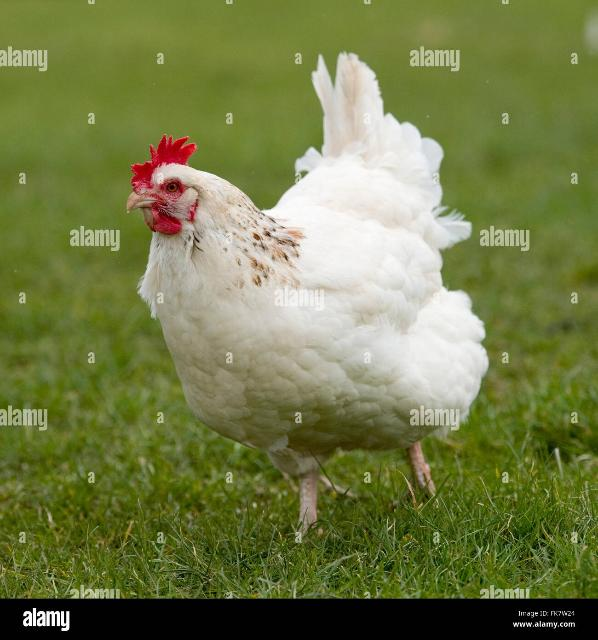Chicken: (123, 51, 489, 545)
